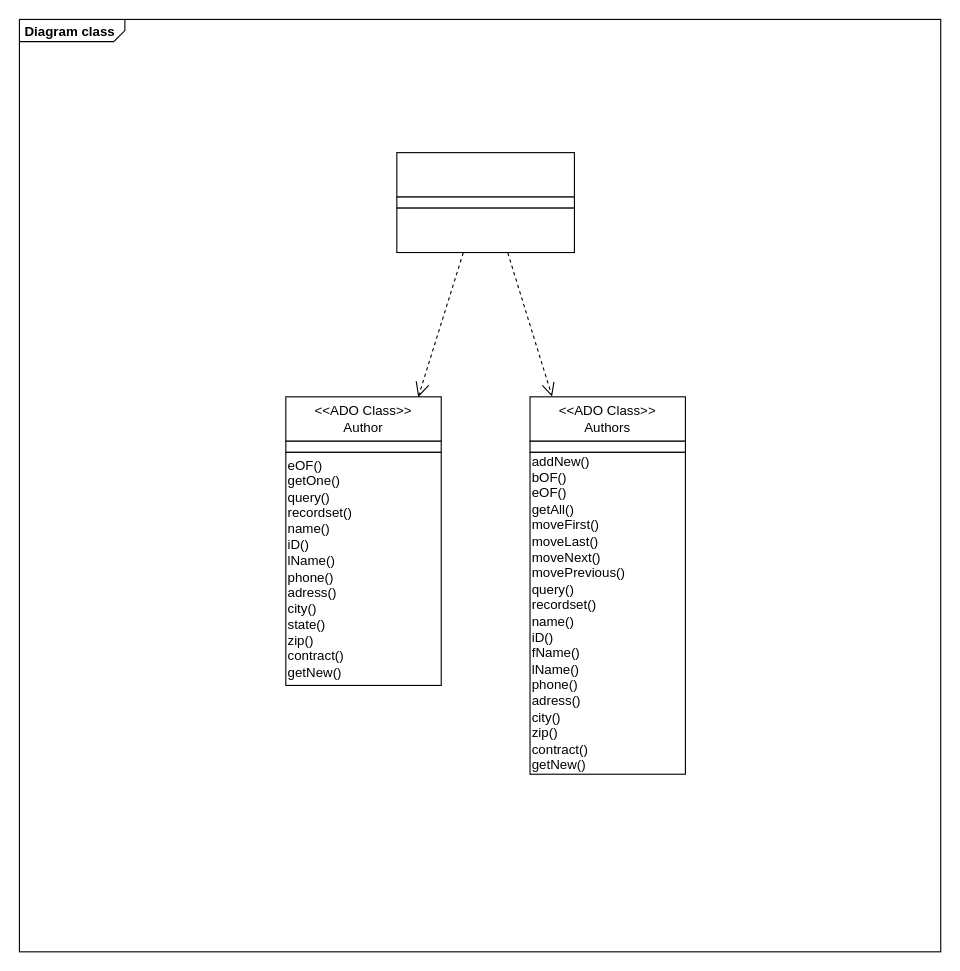
The diagram is 960 pixels wide and 971 high, and some of its shapes have lost their labels. The centre of each missing label's shape, as x and y in pixels:
"<<Form>> Form1" goes at point 485,174.
"command1Click() command2Click()" goes at point 485,230.
